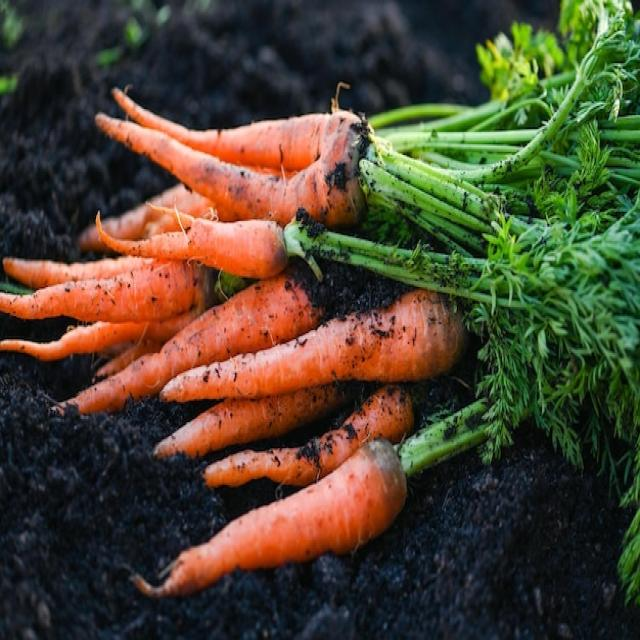Carrot: (106, 218, 287, 276)
